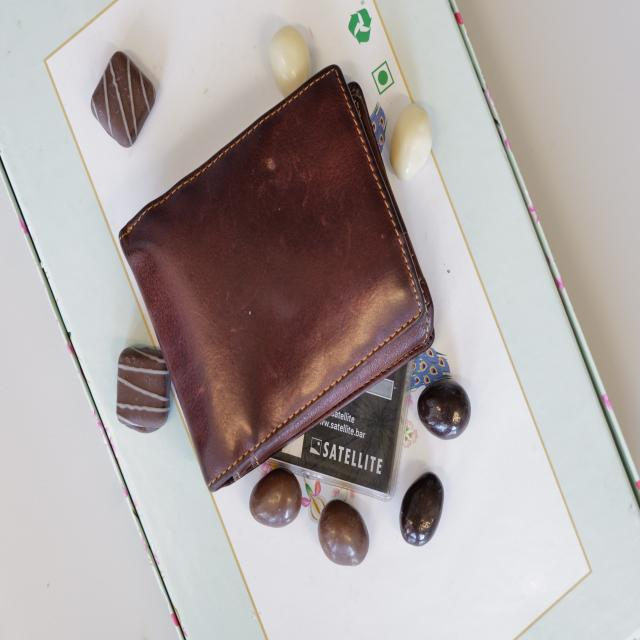Jelly_Black: (415, 376, 473, 438), (400, 471, 445, 546)
Jelly_Milk: (319, 499, 370, 566), (250, 464, 302, 527)
Jelly_White: (269, 24, 315, 101), (392, 102, 434, 182)
Stracciatella: (90, 50, 156, 148), (118, 344, 172, 432)
